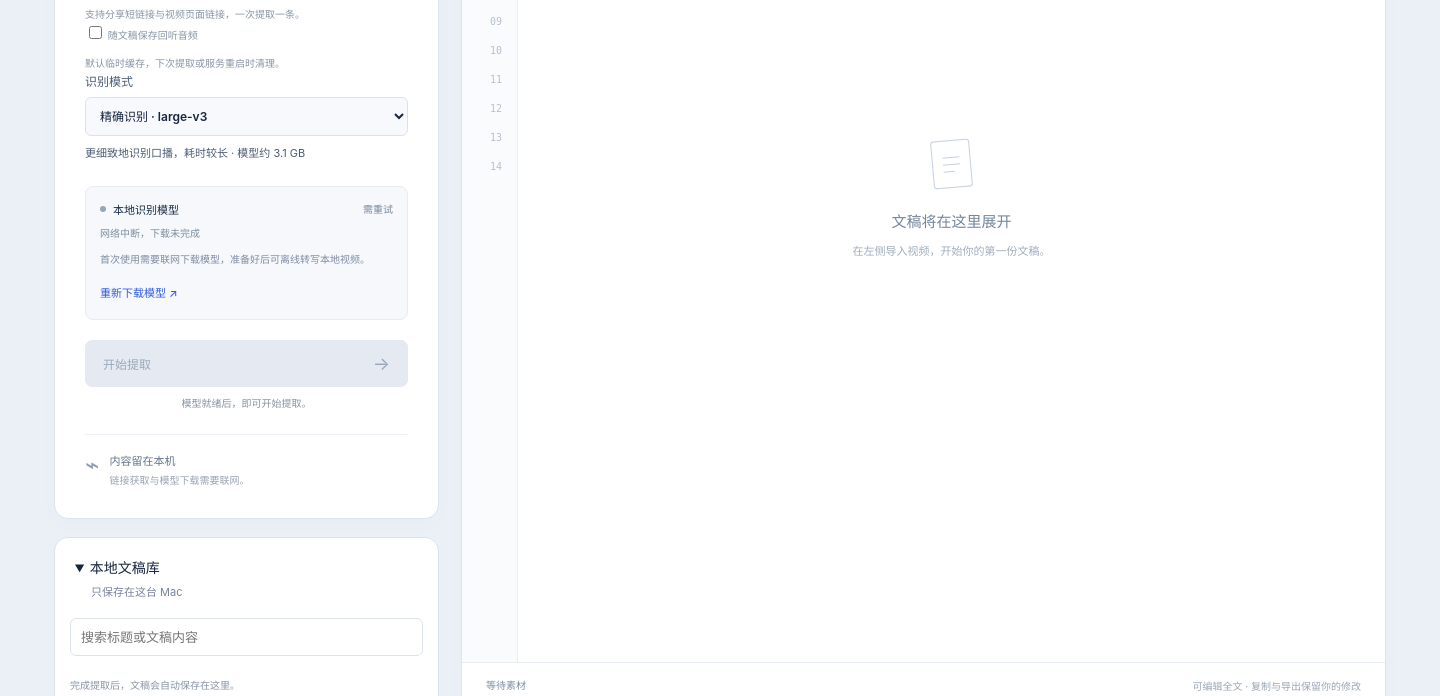
Test: 本地文案工作台 › can retry a failed model download
(page scrolled)
Click the button "重新下载模型 ↗". click: (141, 292)
box: [100,279,182,305]
(page scrolled)
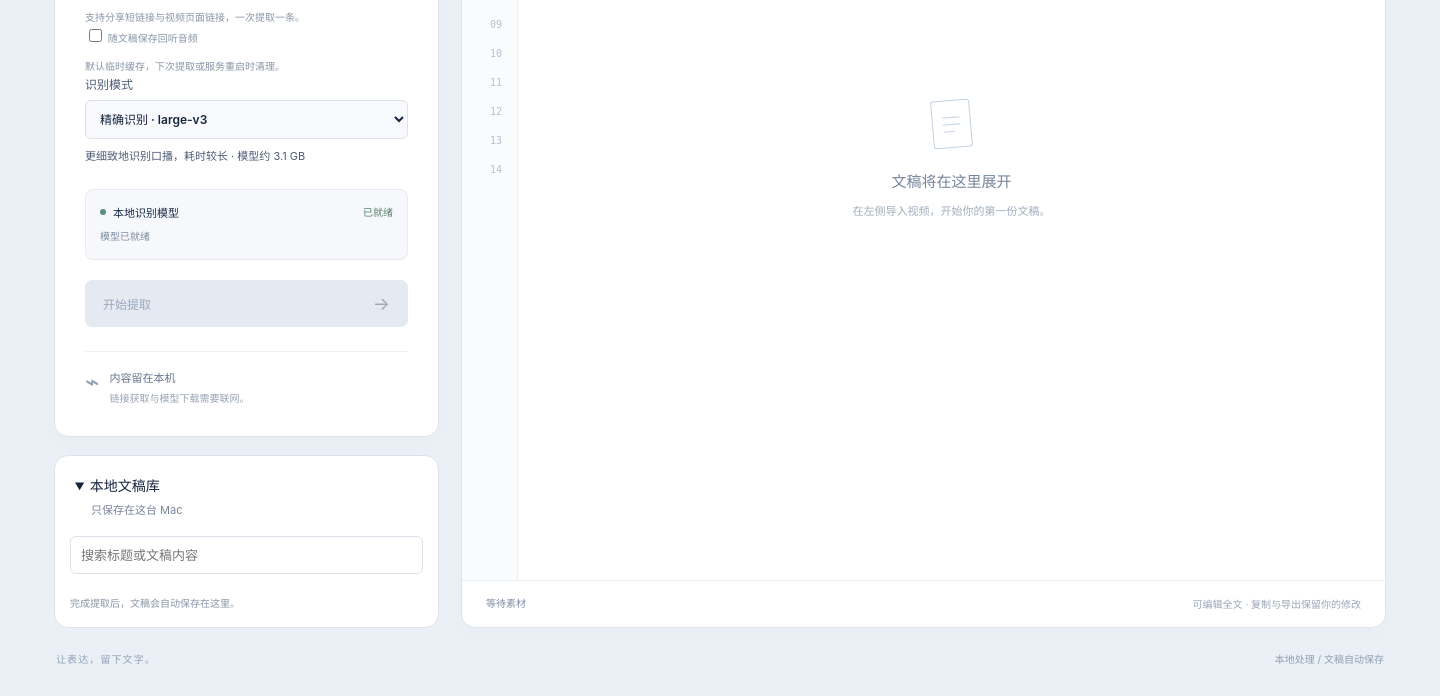
Expected: the text "模型已就绪" is shown, [100,230,150,242]
